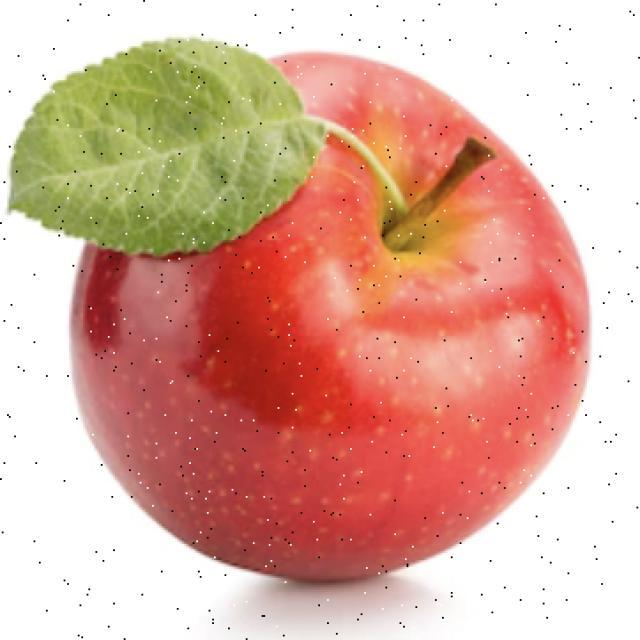Fresh Apple: (76, 62, 586, 565)
